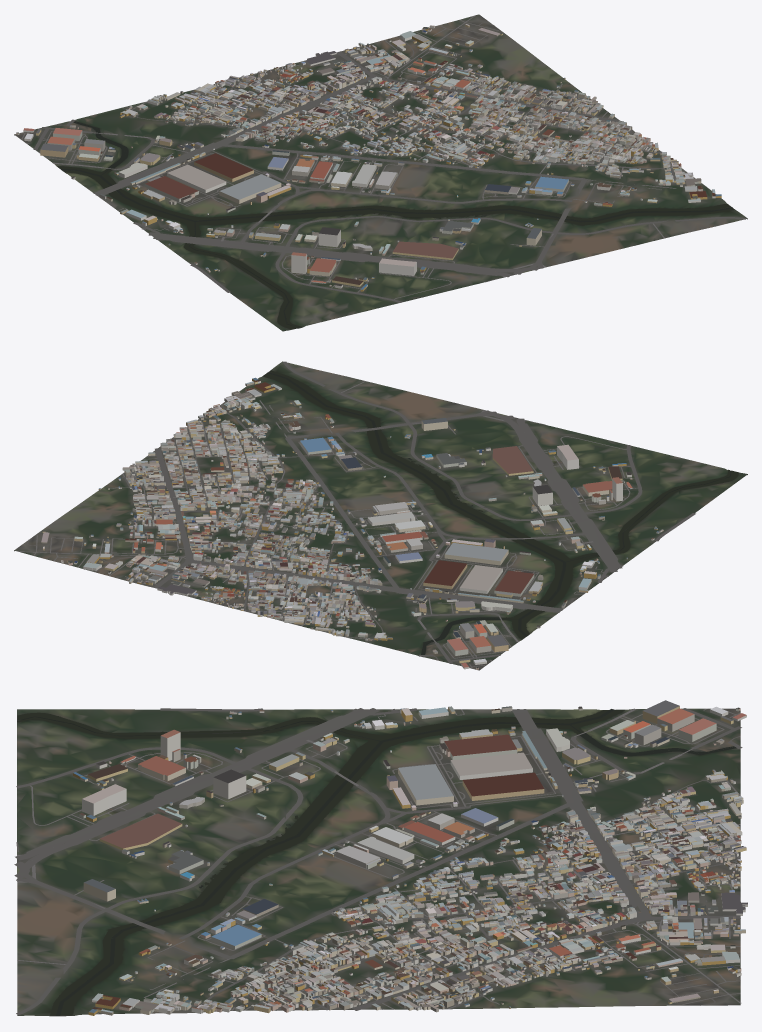
The picture shows the model from 3 angles, top to bottom: view 1: azimuth 30°, elevation 25°; view 2: azimuth 150°, elevation 25°; view 3: azimuth 270°, elevation 25°; orthographic projection. The views are drawn at different scales.
Parts seen in each view (by area): view 1: ground, buildings, roads, water; view 2: ground, buildings, roads, water; view 3: ground, buildings, roads, water.
Part boxes in pixels (x1=…): ground: x1=14, y1=14, x2=747, y2=331; buildings: x1=16, y1=24, x2=721, y2=291; roads: x1=21, y1=15, x2=746, y2=302; water: x1=57, y1=121, x2=735, y2=329; ground: x1=14, y1=361, x2=747, y2=670; buildings: x1=41, y1=377, x2=663, y2=669; roads: x1=17, y1=361, x2=695, y2=668; water: x1=263, y1=370, x2=738, y2=656; ground: x1=17, y1=708, x2=740, y2=1016; buildings: x1=73, y1=700, x2=747, y2=1015; roads: x1=14, y1=708, x2=742, y2=1014; water: x1=17, y1=709, x2=736, y2=1015.
Bounding box in the file's own units: 1420 × 56.43 × 1421.
